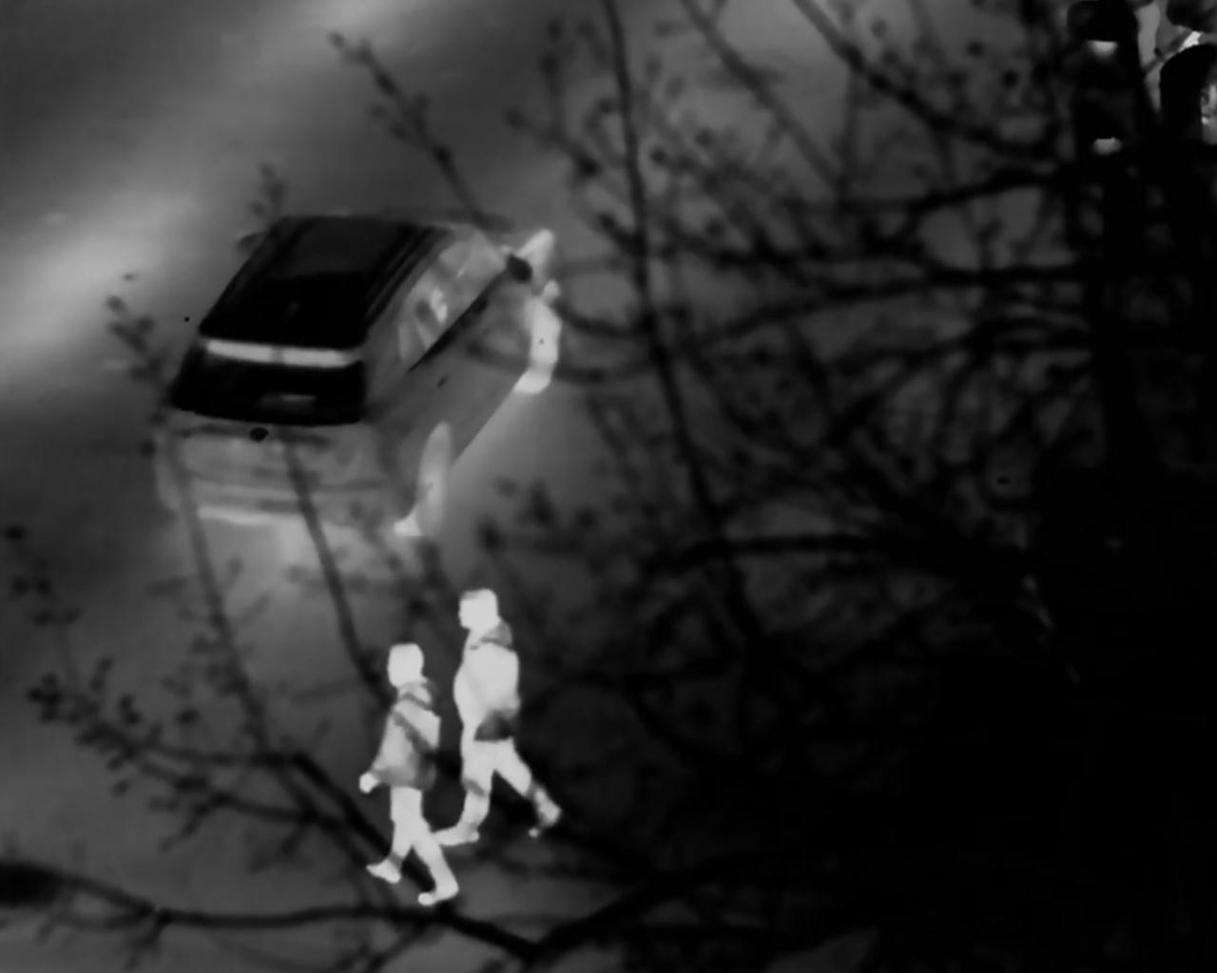person: (449, 590, 556, 847), (360, 640, 462, 906)
